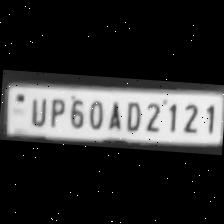0: (84, 96, 106, 130)
1: (198, 100, 220, 136), (160, 100, 180, 132)
2: (141, 99, 163, 133), (178, 100, 200, 134)
6: (64, 94, 86, 128)
A: (105, 97, 123, 130)
D: (121, 98, 143, 131)
P: (44, 94, 66, 128)
U: (25, 93, 48, 126)
